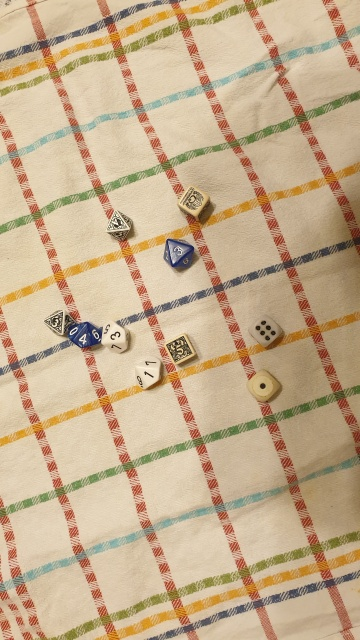d10-1: (131, 355, 166, 394)
d10-3: (98, 314, 131, 363), (160, 231, 196, 275)
d10-4: (65, 317, 102, 355)
d6-1: (242, 366, 284, 407)
d6-6: (246, 312, 285, 354)
d6p-5: (160, 330, 198, 365)
d6p-6: (174, 183, 213, 225)
d8p-3: (41, 305, 74, 341)
d8p-4: (104, 206, 138, 244)
